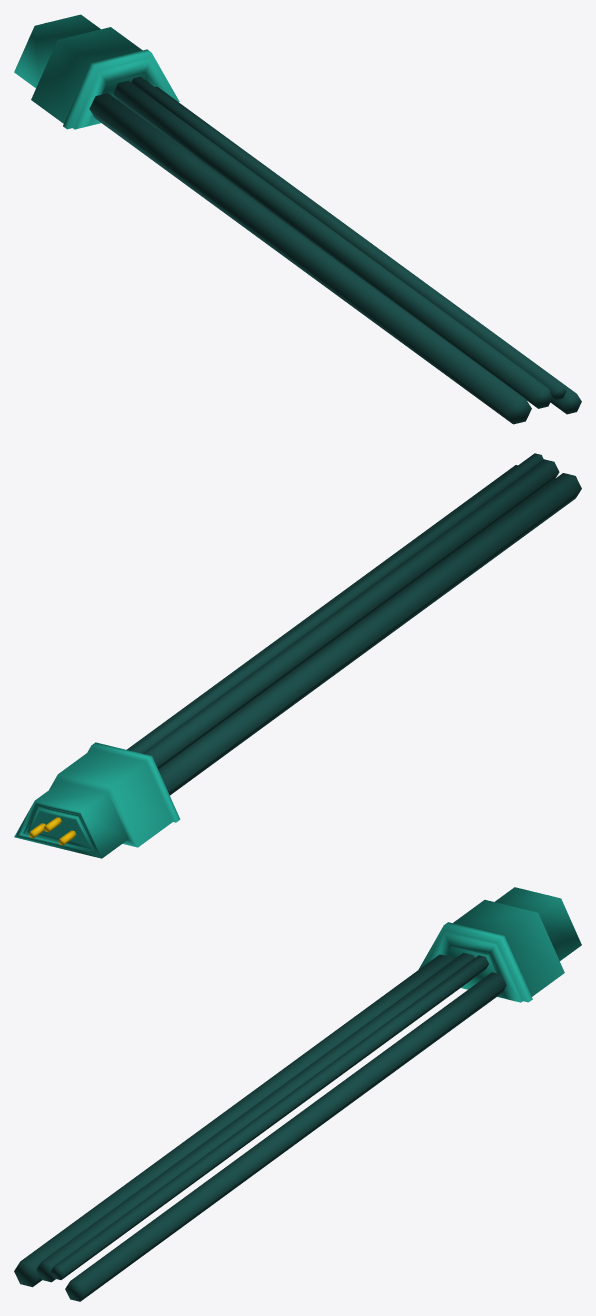
File: CablesPuzzle2.fbx
3 renders of one model, top to bottom at view 1: azimuth 30°, elevation 25°; view 2: azimuth 150°, elevation 25°; view 3: azimuth 330°, elevation 25°, orthographic.
Parts seen in each view (by area): view 1: TubosAzul, EnchufeAzul; view 2: TubosAzul, EnchufeAzul; view 3: TubosAzul, EnchufeAzul.
Boxes of the visible parts, x1,y1,x2,y2 form: TubosAzul: [89, 76, 581, 424]; EnchufeAzul: [14, 14, 179, 129]; TubosAzul: [126, 453, 581, 795]; EnchufeAzul: [14, 742, 180, 858]; TubosAzul: [14, 952, 506, 1301]; EnchufeAzul: [418, 887, 581, 1002].
Bounding box in the file's own units: 88.63 × 42.3 × 683.
